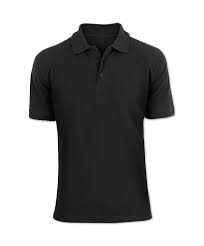S_polo shirt: (27, 28, 175, 228)
